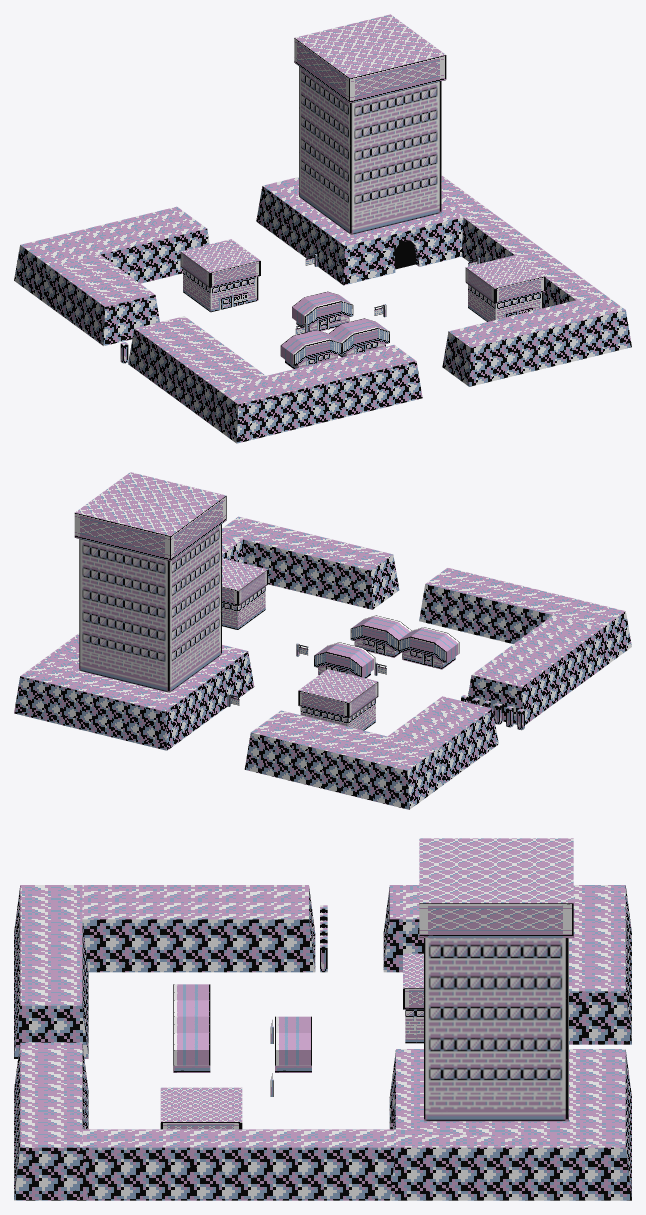
The model's file is Lavender01.fbx.
3 views of the same model, one above another, from view 1: azimuth 30°, elevation 25°; view 2: azimuth 150°, elevation 25°; view 3: azimuth 270°, elevation 25° (orthographic). The views are drawn at different scales.
Visible parts, largest first — view 1: polySurface65; view 2: polySurface65; view 3: polySurface65.
Boxes of the visible parts, <box> form: polySurface65: <box>14,14,631,443</box>; polySurface65: <box>14,472,631,809</box>; polySurface65: <box>14,838,631,1200</box>.
Size of the model in its own units: 34.27 by 16.02 by 33.17.
